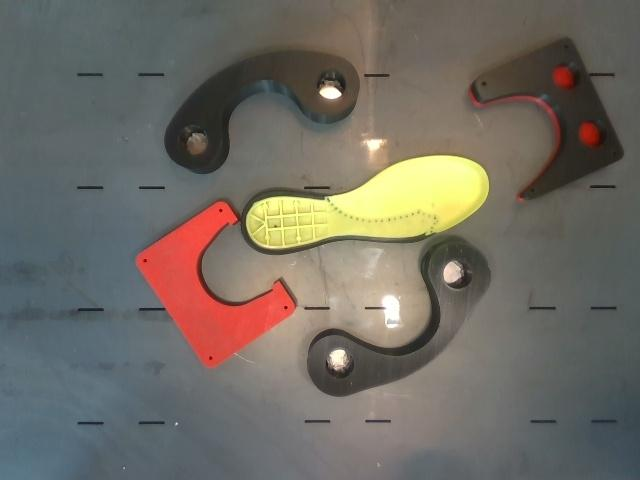shoes: (242, 156, 488, 254)
